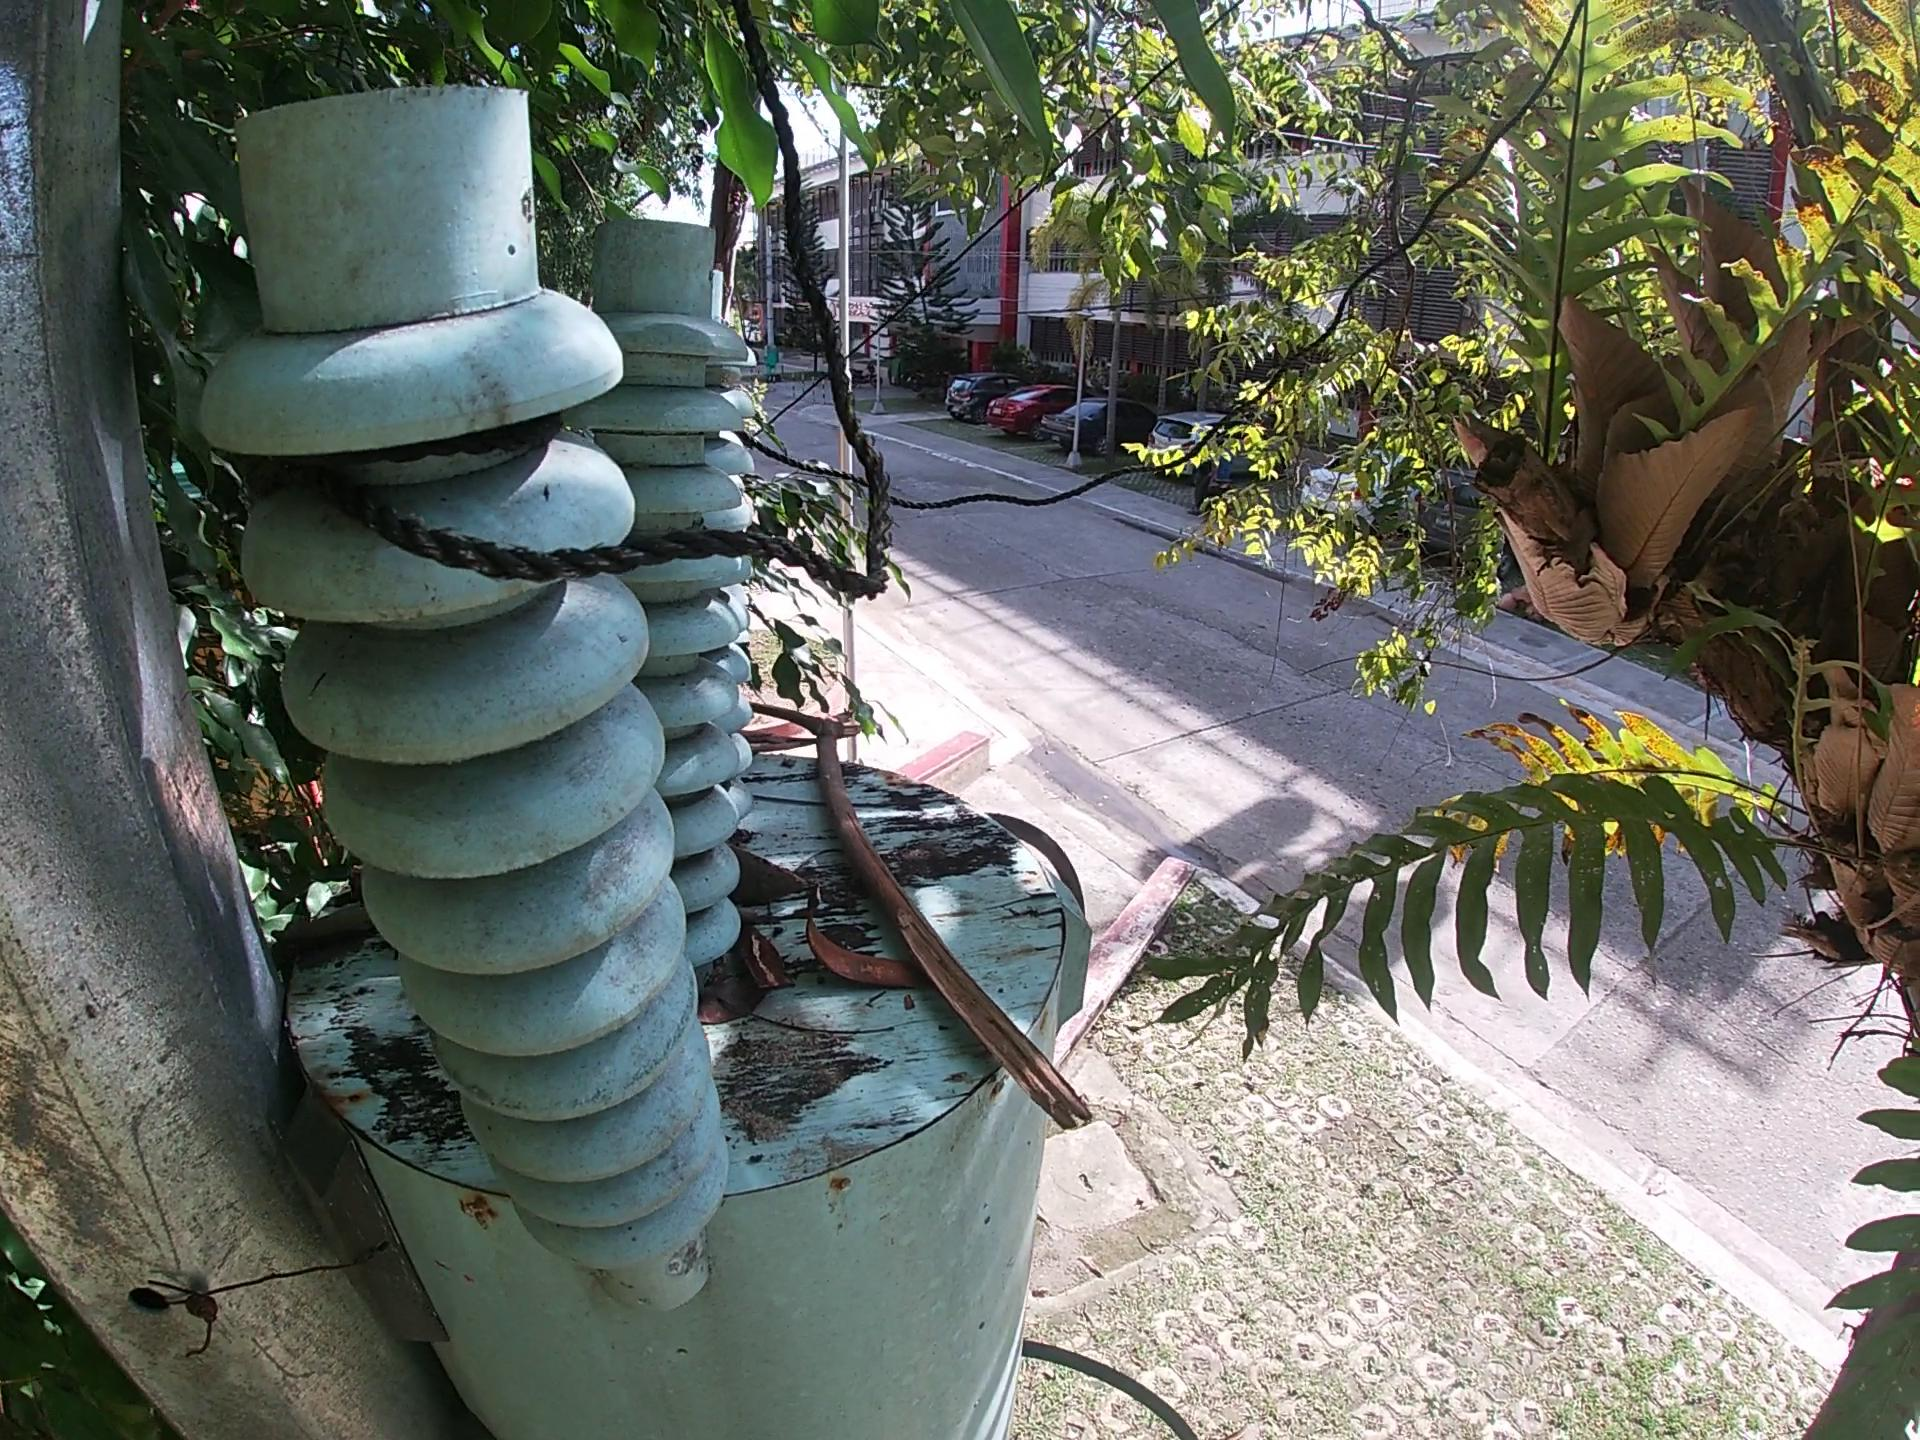leaf: (695, 973, 763, 1036)
mahogany fruit: (804, 885, 933, 989), (732, 847, 813, 909), (735, 923, 794, 998)
tree branch: (745, 697, 1102, 1136), (262, 900, 384, 970), (739, 728, 819, 758)
